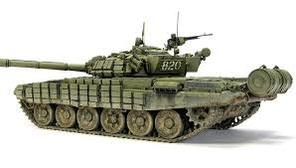t72: (1, 37, 296, 145)
